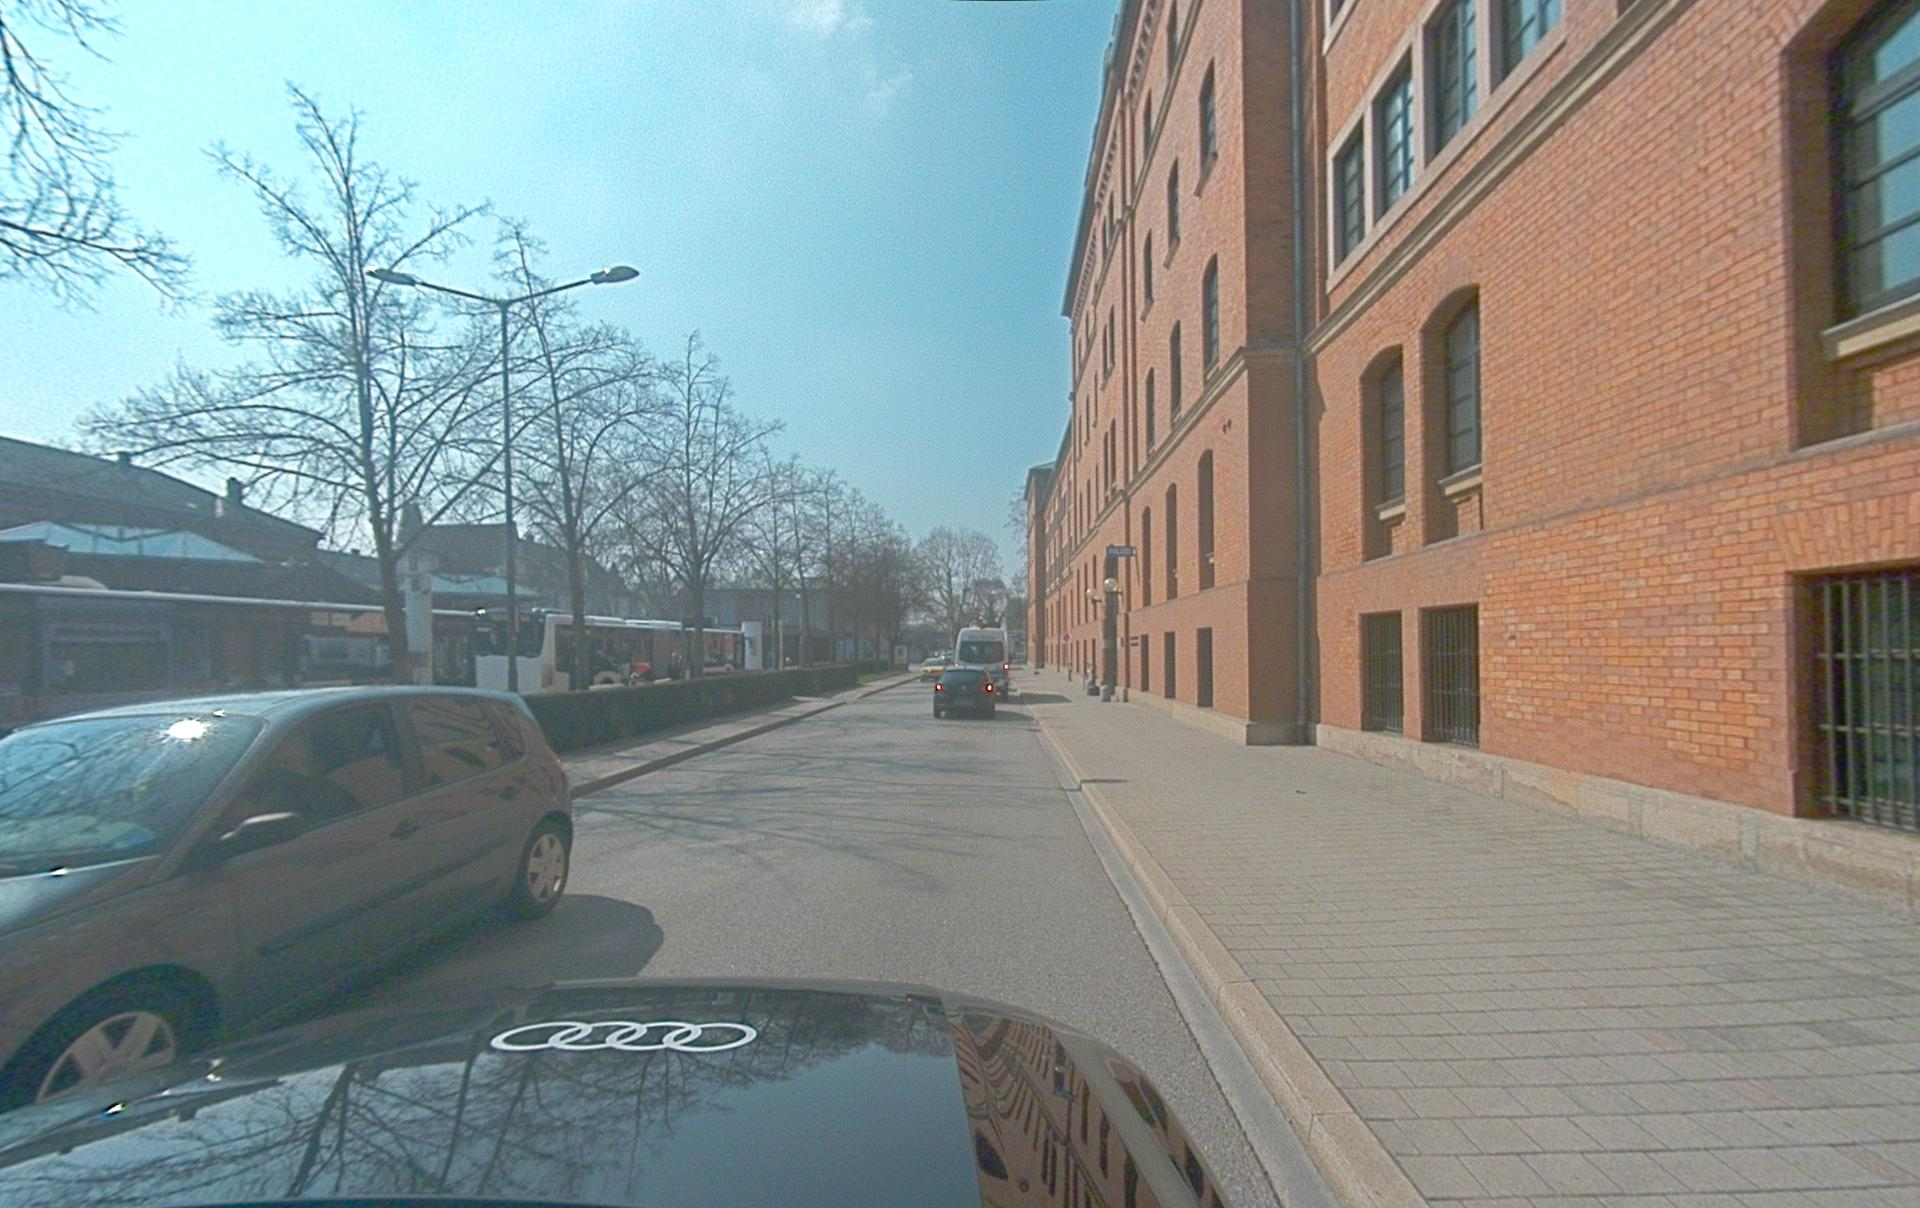car: (1, 974, 1229, 1207), (1, 683, 574, 1112), (933, 666, 997, 719), (921, 651, 955, 681)
